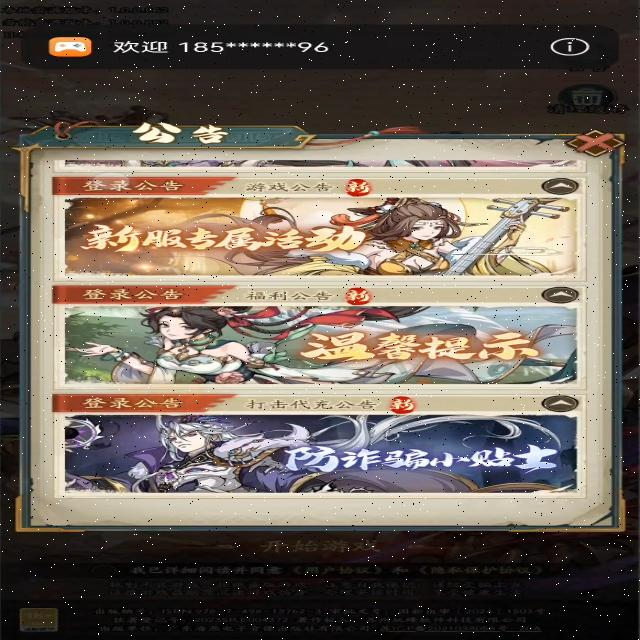operation-close: (564, 129, 628, 157)
